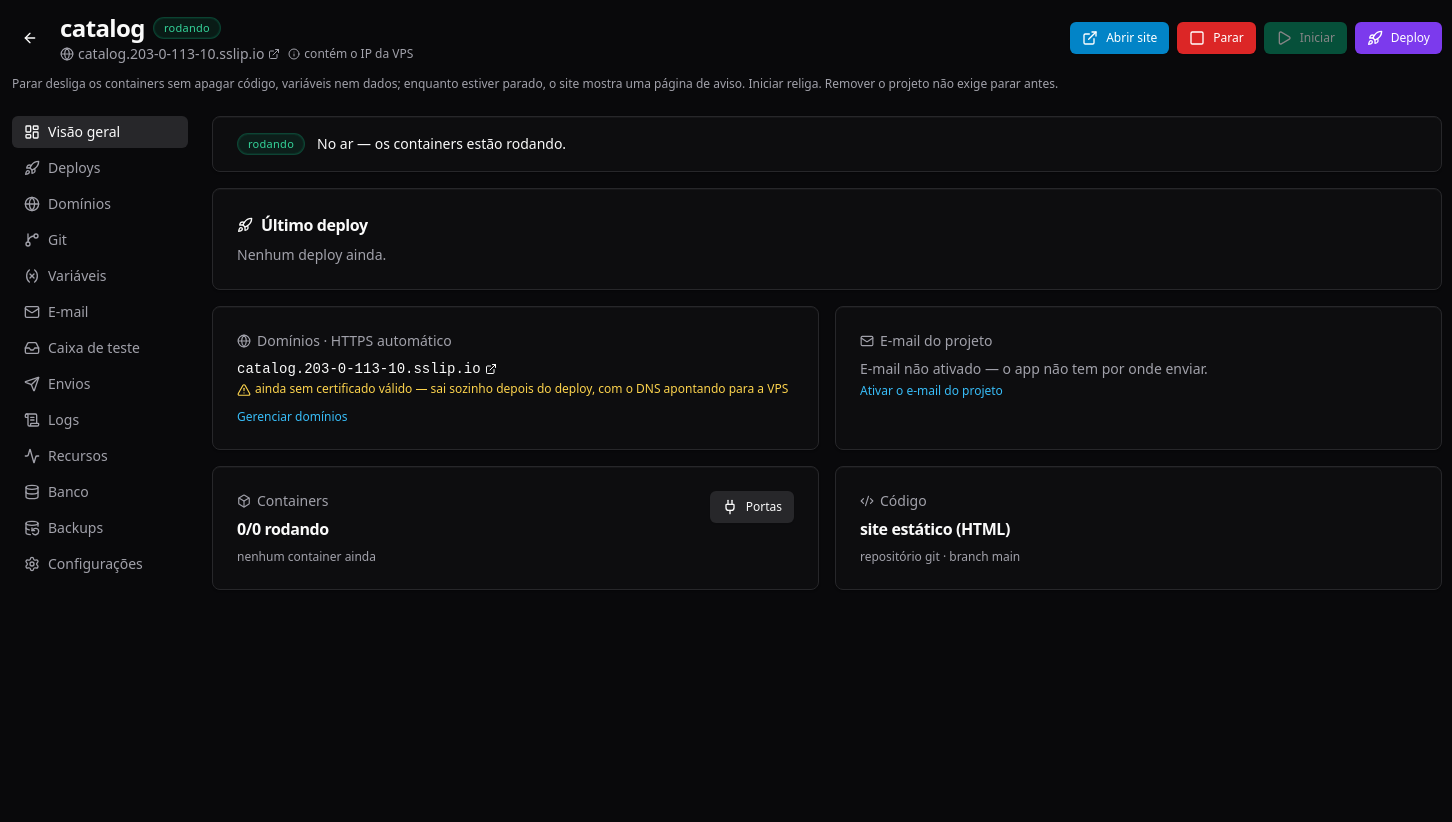
Test: ProjectDetailPage — consulta periódica com falha › erro de uma ação fica na tela até ser fechado
Click the button "Parar". click: (1216, 38)
box: [1177,22,1256,54]
Wait 10000 ms
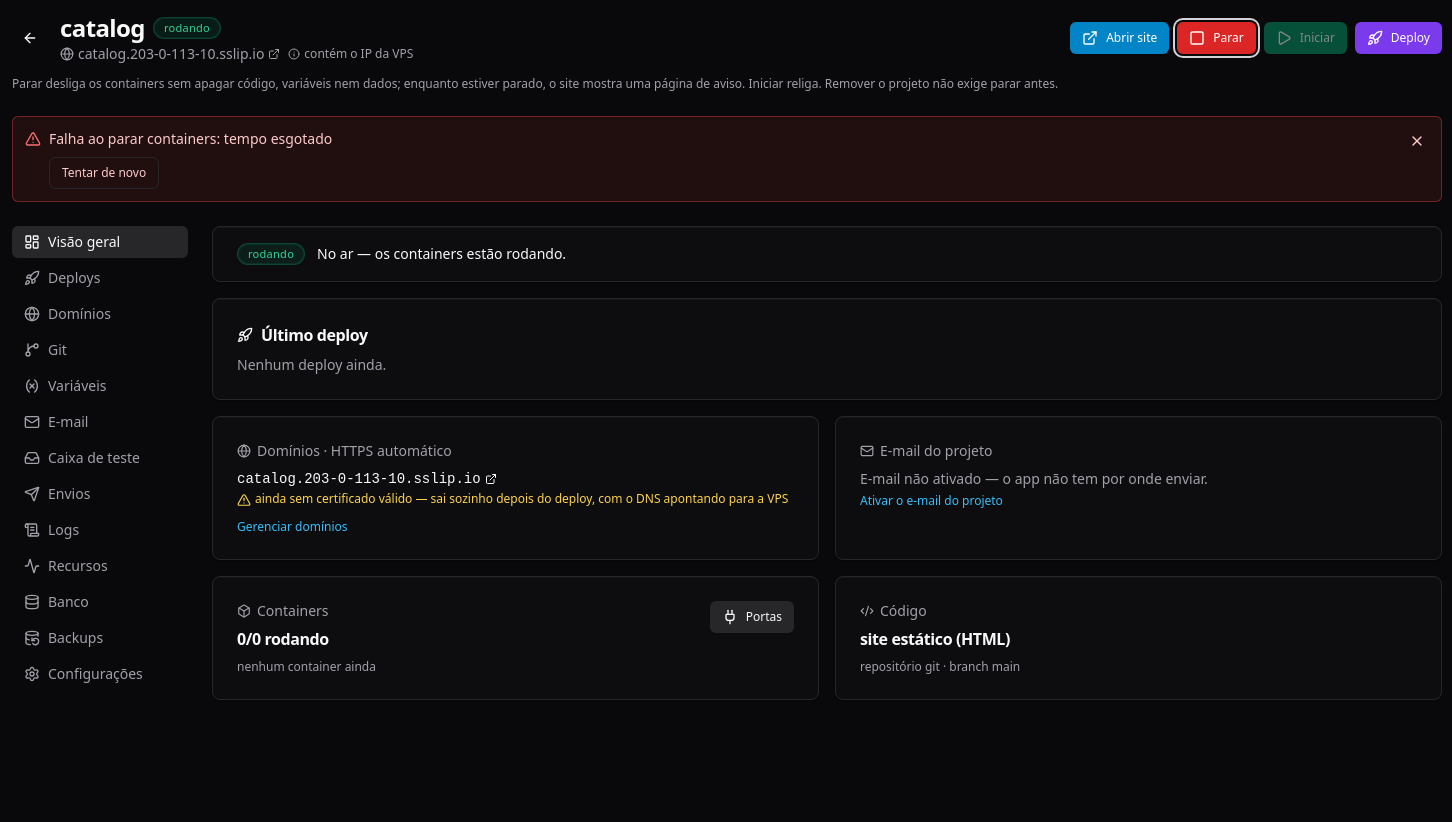
Check: the message with test id "action-error" shows "Falha ao parar containers", box [49,129,332,148]
Check: the message "Falha ao parar containers: tempo esgotado Tentar de novo" is shown, box [12,116,1442,202]
Click the button named "Fechar aviso". click: (1417, 141)
box: [1405,129,1429,153]
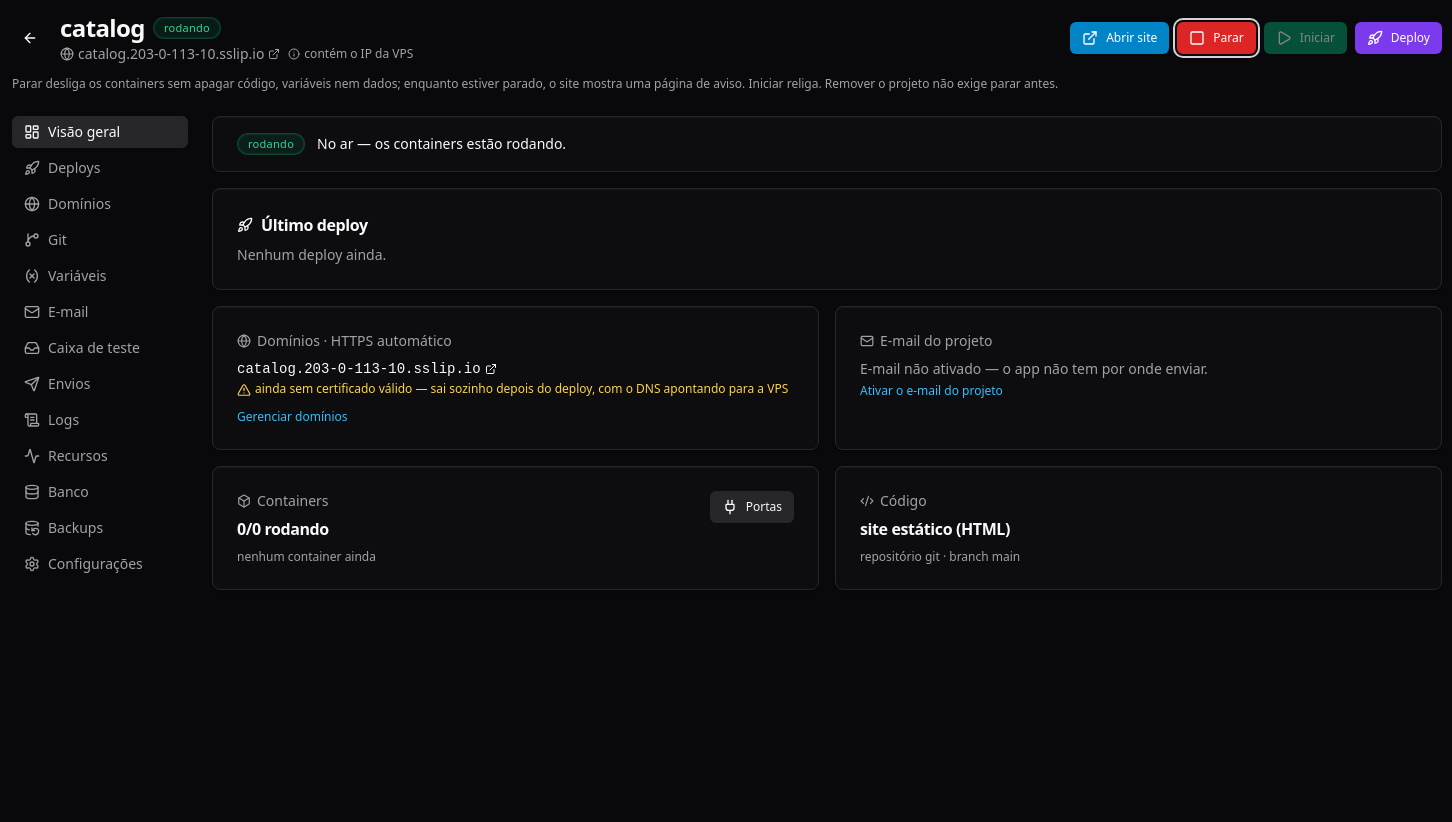
Check: the message with test id "action-error" is gone
